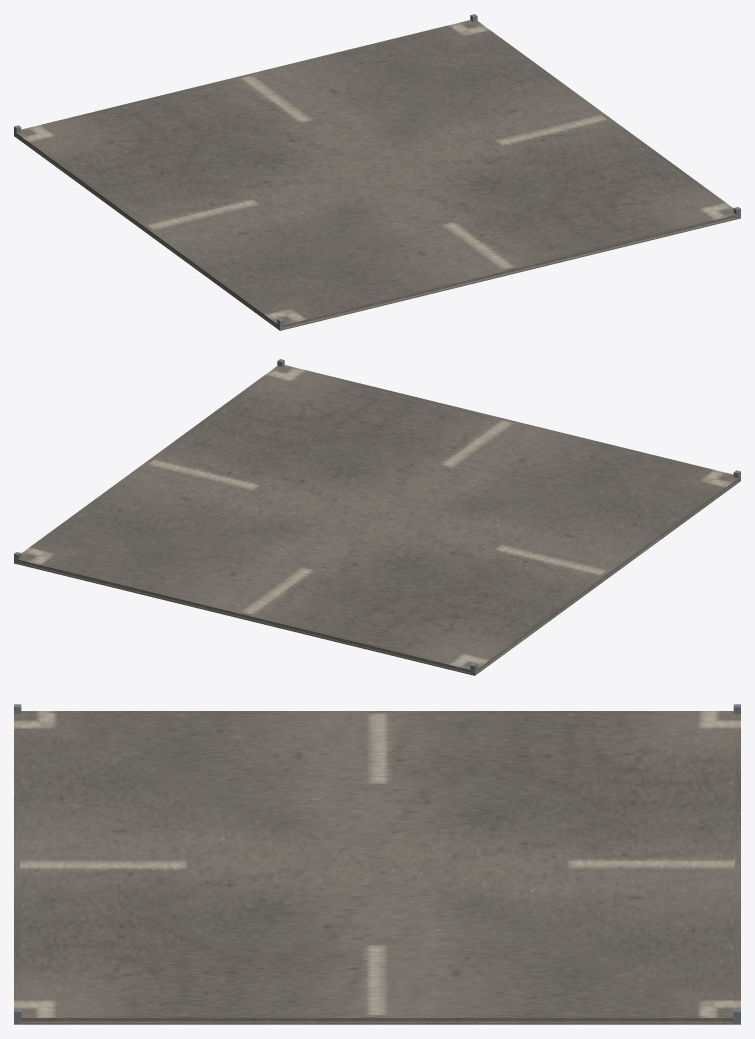
The model's file is Urban_Road4JunctionSmallSides_Model.fbx.
The picture shows the model from 3 angles, top to bottom: view 1: azimuth 30°, elevation 25°; view 2: azimuth 150°, elevation 25°; view 3: azimuth 270°, elevation 25°; orthographic projection. The views are drawn at different scales.
Visible parts, largest first — view 1: Urban_Road4JunctionSmallSides_Mesh; view 2: Urban_Road4JunctionSmallSides_Mesh; view 3: Urban_Road4JunctionSmallSides_Mesh.
Boxes of the visible parts, x1,y1,x2,y2 form: Urban_Road4JunctionSmallSides_Mesh: (14, 14, 740, 330); Urban_Road4JunctionSmallSides_Mesh: (14, 359, 740, 675); Urban_Road4JunctionSmallSides_Mesh: (14, 704, 740, 1024).
Bounding box in the file's own units: 16 × 0.32 × 16.
